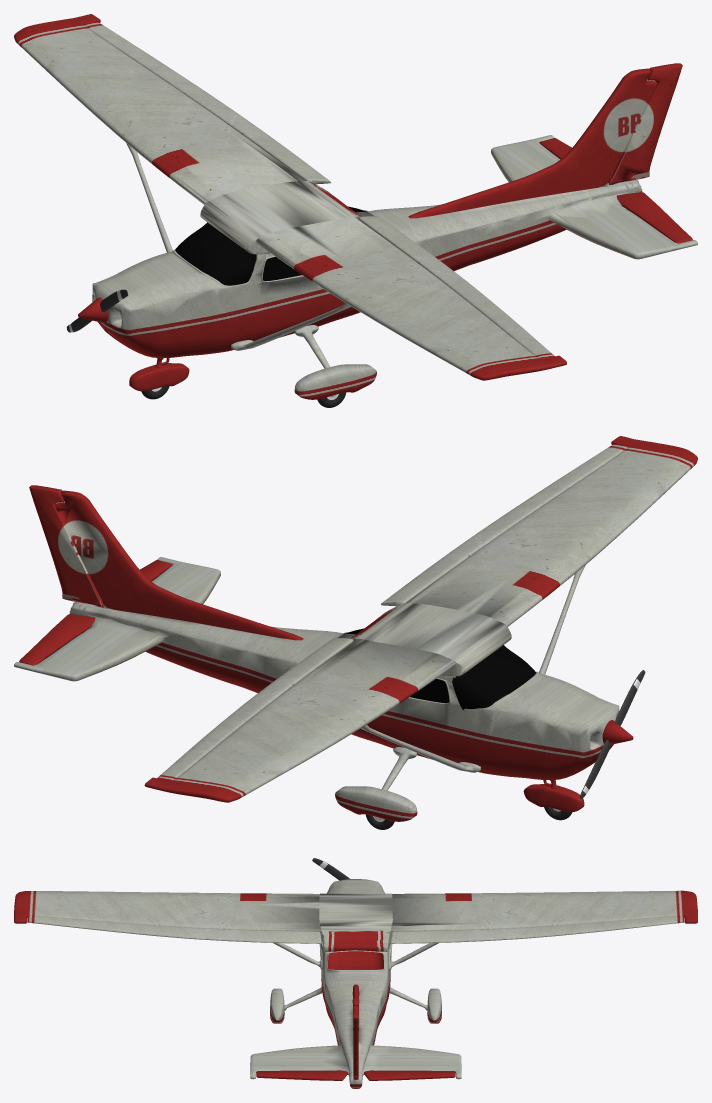
File: airplane.glb
The picture shows the model from 3 angles, top to bottom: view 1: azimuth 30°, elevation 25°; view 2: azimuth 150°, elevation 25°; view 3: azimuth 270°, elevation 25°; orthographic projection. The views are drawn at different scales.
Parts seen in each view (by area): view 1: Plane.001_0, Plane_0, Plane_3, Plane.004_0, Plane_4; view 2: Plane.001_0, Plane_0, Plane_3, Plane.004_0, Cube.001_0, Plane_4; view 3: Plane.001_0, Plane_0, Plane_3.
Boxes of the visible parts, <box> form: Plane.001_0: <box>14,14,566,380</box>; Plane_0: <box>92,135,697,399</box>; Plane_3: <box>78,63,682,391</box>; Plane.004_0: <box>175,222,256,285</box>; Plane_4: <box>262,206,367,281</box>; Plane.001_0: <box>144,436,697,802</box>; Plane_0: <box>14,557,619,821</box>; Plane_3: <box>29,485,633,812</box>; Plane.004_0: <box>452,645,535,720</box>; Cube.001_0: <box>579,670,645,798</box>; Plane_4: <box>344,628,449,703</box>; Plane.001_0: <box>14,890,697,951</box>; Plane_0: <box>250,879,461,1088</box>; Plane_3: <box>352,984,359,1079</box>.
Size of the model in its own units: 19.25 by 6.38 by 26.35.
8 materials, 3 textured.
